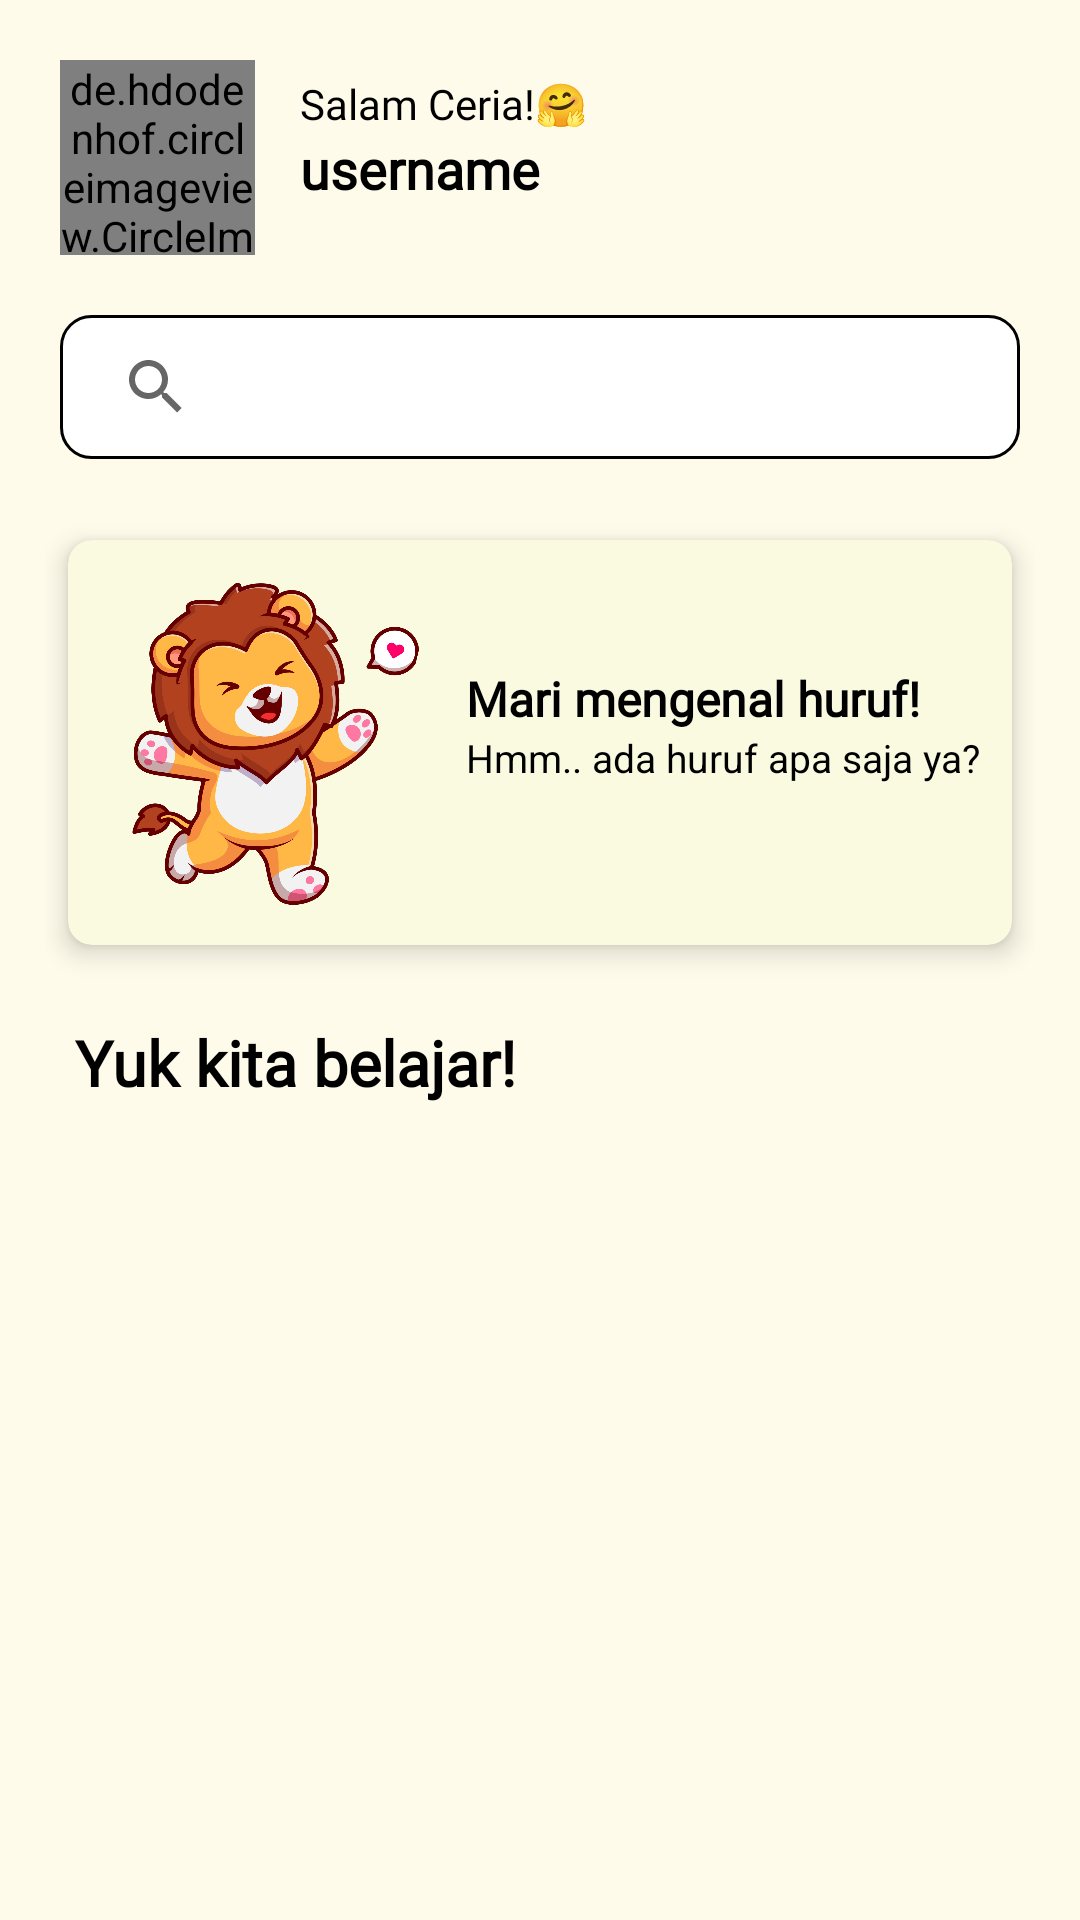

Named icons in this screenshot (1080 × 1920) and their centers, point (x, y):
singahome: point (275, 744)
